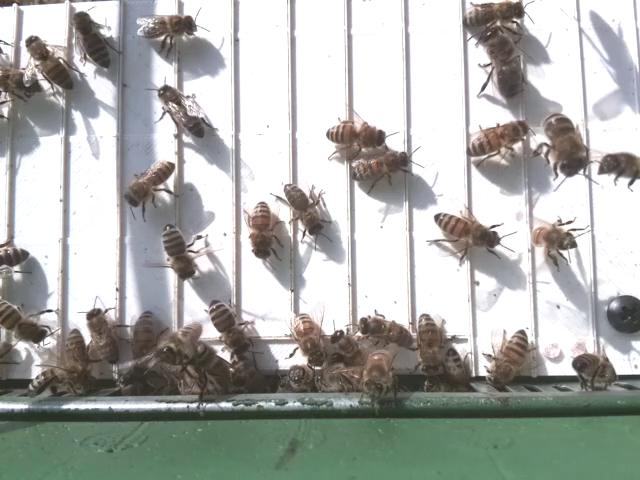Drone: (479, 23, 528, 104)
Worker: (542, 110, 590, 183), (155, 81, 209, 144), (24, 32, 76, 95), (431, 208, 502, 253), (122, 158, 180, 208), (463, 118, 532, 159), (72, 7, 114, 73), (281, 181, 328, 239), (208, 296, 251, 359), (348, 149, 413, 187), (162, 220, 199, 284), (489, 327, 530, 384), (84, 303, 121, 366), (291, 307, 328, 370), (322, 119, 388, 154), (528, 218, 581, 259), (461, 0, 529, 31), (414, 309, 444, 378), (135, 11, 199, 43), (354, 311, 409, 347), (248, 197, 277, 264)
